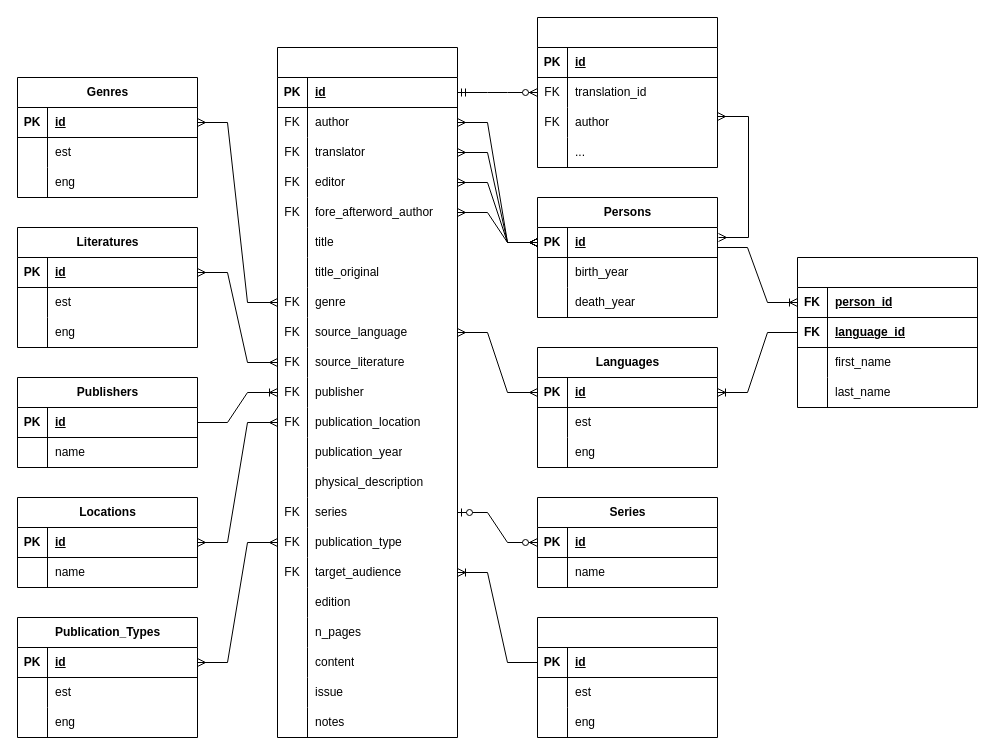
Image size: 995x755. Some labels were removed from this diagram. Each missing label, with the box of its shape:
Names: (796, 256, 978, 408)
Reviews: (536, 16, 718, 168)
Target_Audiences: (536, 616, 718, 738)
Translations: (276, 46, 458, 738)
